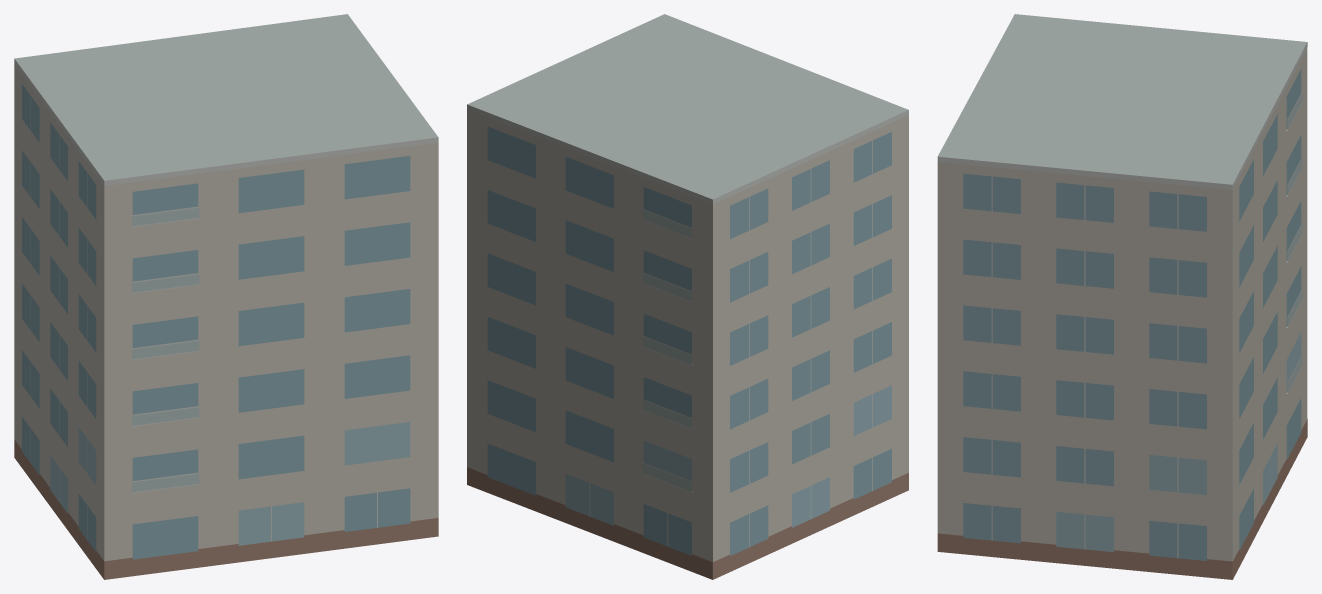
The model's file is survey-upis-32864866.glb.
3 views of the same model, side by side, from view 1: azimuth 30°, elevation 25°; view 2: azimuth 150°, elevation 25°; view 3: azimuth 270°, elevation 25° (orthographic). The views are drawn at different scales.
Visible parts, largest first — view 1: survey-upis-32864866.tmp; view 2: survey-upis-32864866.tmp; view 3: survey-upis-32864866.tmp.
Boxes of the visible parts, bbox=[...] form: survey-upis-32864866.tmp: bbox=[14, 14, 438, 579]; survey-upis-32864866.tmp: bbox=[467, 14, 908, 579]; survey-upis-32864866.tmp: bbox=[937, 14, 1307, 579].
Bounding box in the file's own units: 16.97 × 18.3 × 15.54.
